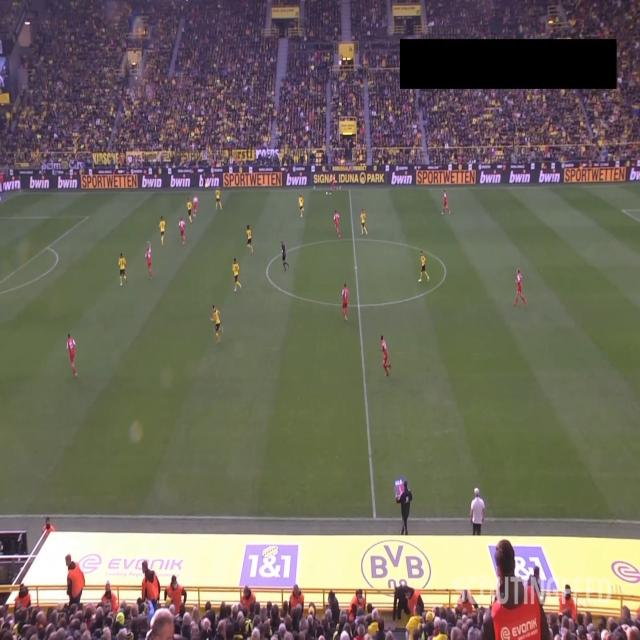ball: (326, 190, 328, 196)
